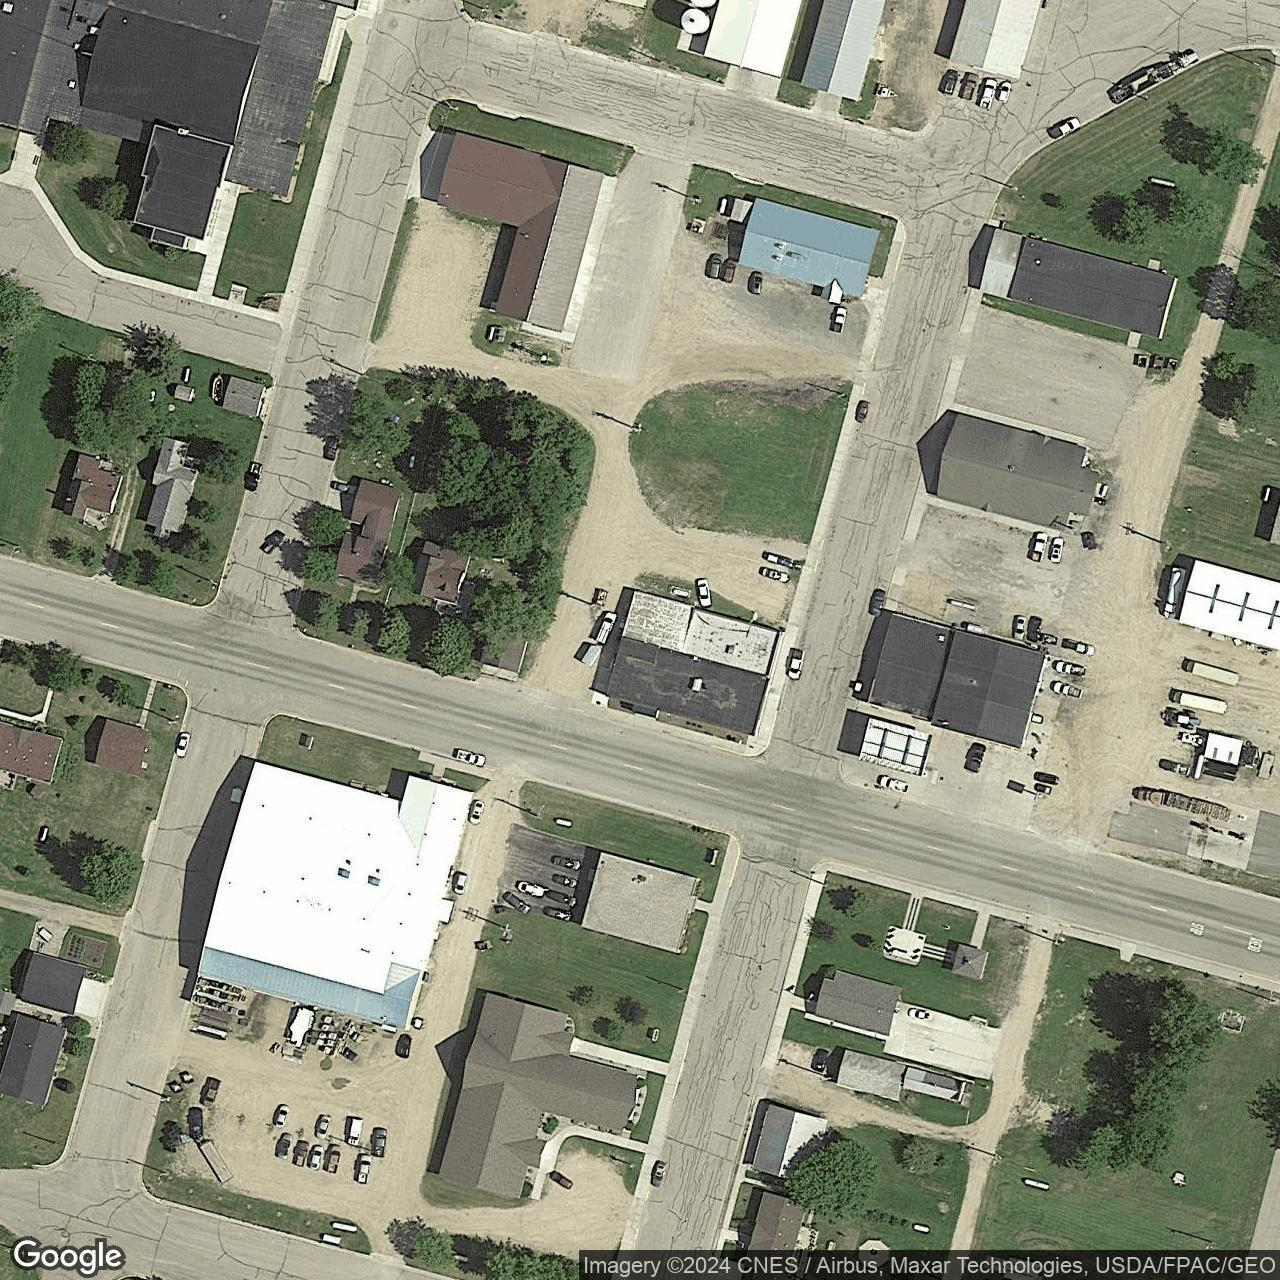Garage: (20, 951, 87, 1014), (482, 629, 529, 674), (223, 375, 266, 416)
House: (437, 993, 638, 1199), (1179, 559, 1279, 649), (335, 479, 401, 586), (836, 1050, 966, 1102), (0, 1013, 68, 1104), (754, 1105, 828, 1183), (817, 969, 901, 1035), (147, 437, 198, 539), (63, 452, 124, 520), (0, 722, 63, 784), (410, 540, 471, 605), (748, 1192, 805, 1251), (95, 720, 150, 775), (1271, 503, 1279, 545), (607, 0, 648, 8)
Other: (0, 0, 360, 250), (198, 760, 474, 1032), (437, 130, 605, 332), (607, 591, 778, 744), (869, 614, 1047, 750), (979, 227, 1178, 339), (935, 413, 1099, 531), (737, 195, 880, 302), (583, 852, 699, 953), (799, 0, 886, 102), (703, 0, 802, 77), (949, 0, 1041, 79)
Propane: (1023, 1177, 1051, 1192), (947, 598, 978, 611), (1149, 176, 1176, 189), (332, 1221, 359, 1234), (554, 817, 573, 829), (39, 826, 49, 843), (452, 1253, 469, 1264), (672, 588, 689, 597), (719, 198, 728, 213), (486, 327, 496, 342), (914, 1224, 928, 1233), (488, 326, 496, 341), (1264, 488, 1272, 502), (184, 367, 191, 383), (149, 390, 156, 403), (409, 455, 415, 469)
